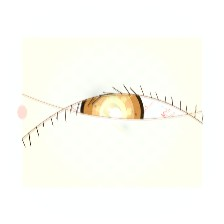corneal_ulcer: (84, 91, 142, 138)
